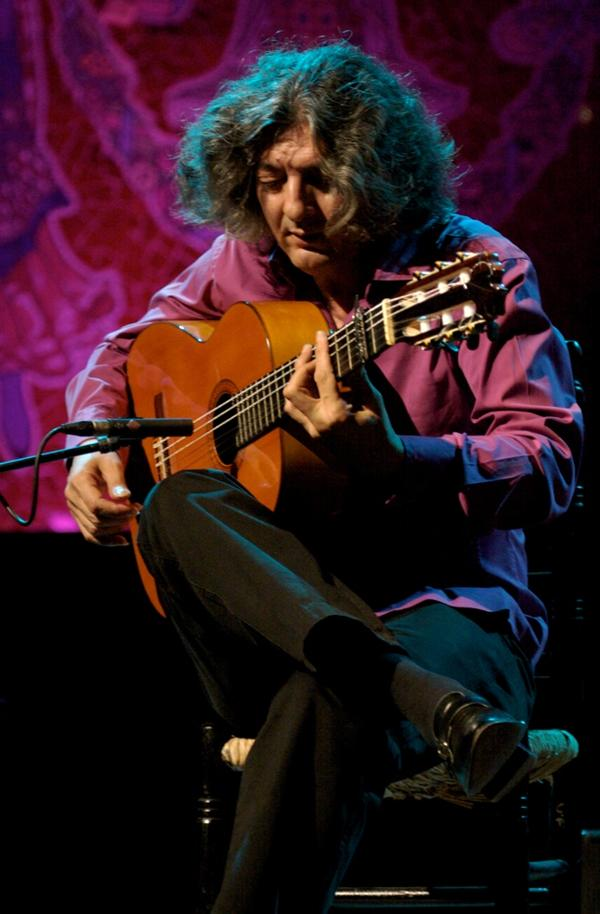person: (63, 39, 583, 912)
